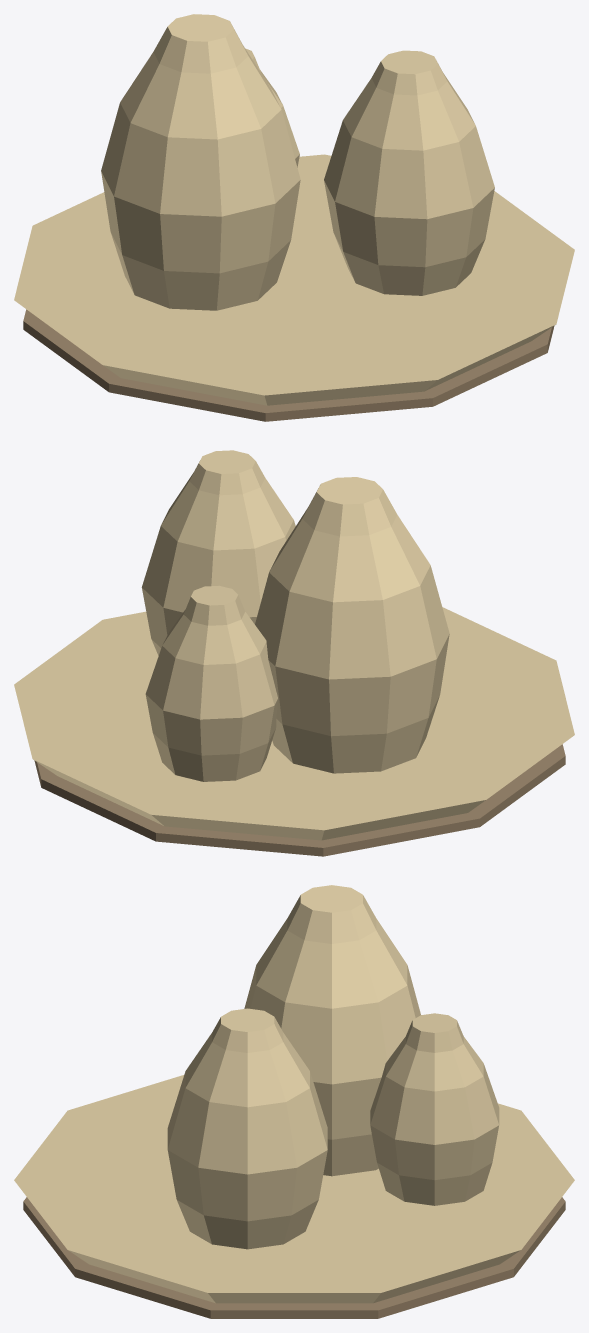
Rendered from prp_amphora_cluster_a.glb.
3 renders of one model, top to bottom at view 1: azimuth 30°, elevation 25°; view 2: azimuth 150°, elevation 25°; view 3: azimuth 270°, elevation 25°, orthographic. The views are drawn at different scales.
Visible parts, largest first — view 1: lod0__amphora_tray, lod0__amphora_v0, lod0__amphora_v1, lod0__amphora_contact; view 2: lod0__amphora_tray, lod0__amphora_v0, lod0__amphora_v2, lod0__amphora_v1, lod0__amphora_contact; view 3: lod0__amphora_tray, lod0__amphora_v1, lod0__amphora_v0, lod0__amphora_v2, lod0__amphora_contact.
Boxes of the visible parts, bbox=[...] form: lod0__amphora_tray: bbox=[14, 154, 574, 405]; lod0__amphora_v0: bbox=[101, 14, 300, 310]; lod0__amphora_v1: bbox=[324, 50, 494, 295]; lod0__amphora_contact: bbox=[23, 309, 554, 421]; lod0__amphora_tray: bbox=[14, 607, 574, 840]; lod0__amphora_v0: bbox=[255, 477, 449, 773]; lod0__amphora_v2: bbox=[145, 585, 277, 781]; lod0__amphora_v1: bbox=[141, 450, 295, 655]; lod0__amphora_contact: bbox=[34, 744, 565, 856]; lod0__amphora_tray: bbox=[14, 1075, 574, 1303]; lod0__amphora_v1: bbox=[167, 1008, 327, 1249]; lod0__amphora_v0: bbox=[244, 885, 420, 1176]; lod0__amphora_v2: bbox=[370, 1013, 499, 1205]; lod0__amphora_contact: bbox=[23, 1197, 565, 1318].
Size of the model in its own units: 1.14 by 0.65 by 1.2.
